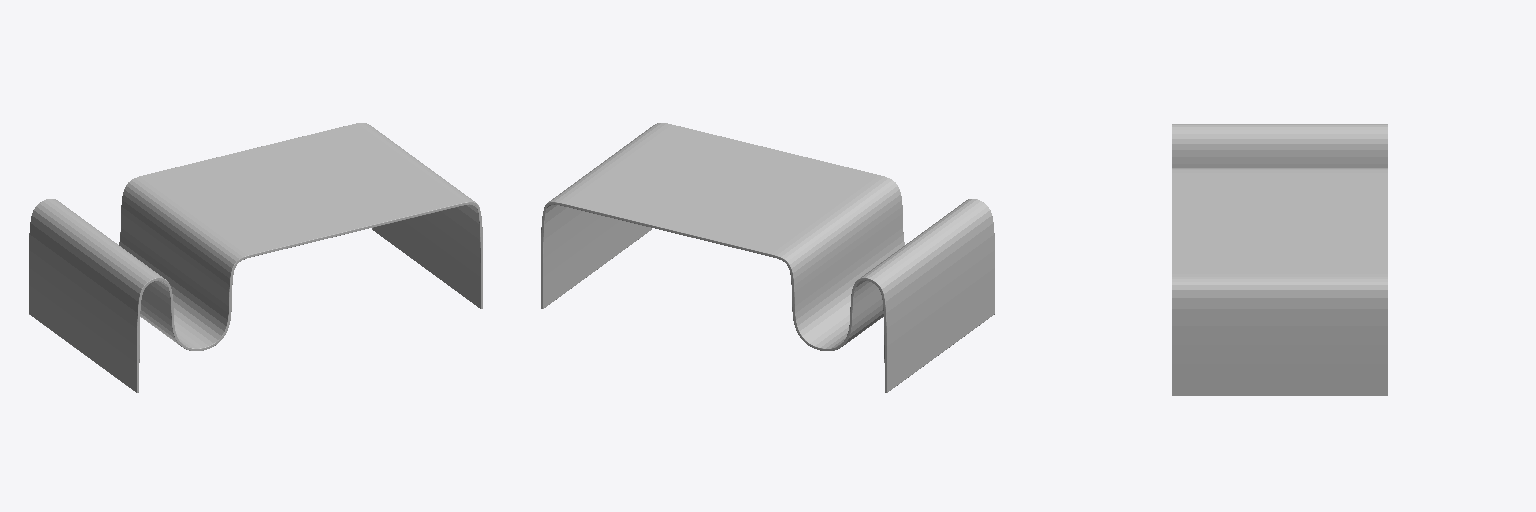
The model's file is table5.obj.
3 views of the same model, side by side, from view 1: azimuth 30°, elevation 25°; view 2: azimuth 150°, elevation 25°; view 3: azimuth 270°, elevation 25° (orthographic).
Visible parts, largest first — view 1: 10ravens_3D_M_004_Modern_table_36; view 2: 10ravens_3D_M_004_Modern_table_36; view 3: 10ravens_3D_M_004_Modern_table_36.
Part boxes in pixels (left/top/right/bottom): 10ravens_3D_M_004_Modern_table_36: left=29, top=123, right=482, bottom=392; 10ravens_3D_M_004_Modern_table_36: left=541, top=123, right=994, bottom=392; 10ravens_3D_M_004_Modern_table_36: left=1172, top=124, right=1387, bottom=395.
Bounding box in the file's own units: 131 × 40 × 71.